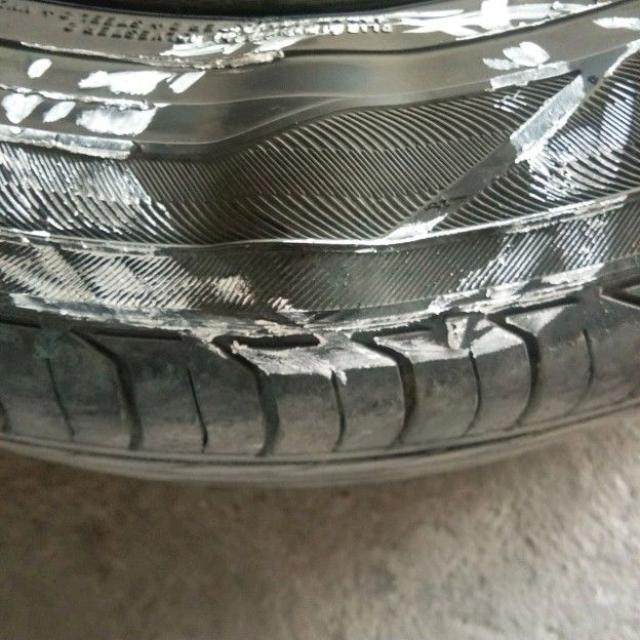Bulge: (204, 28, 430, 264)
